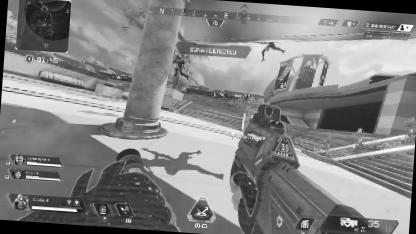Target: (172, 54, 189, 80), (258, 42, 279, 63)
